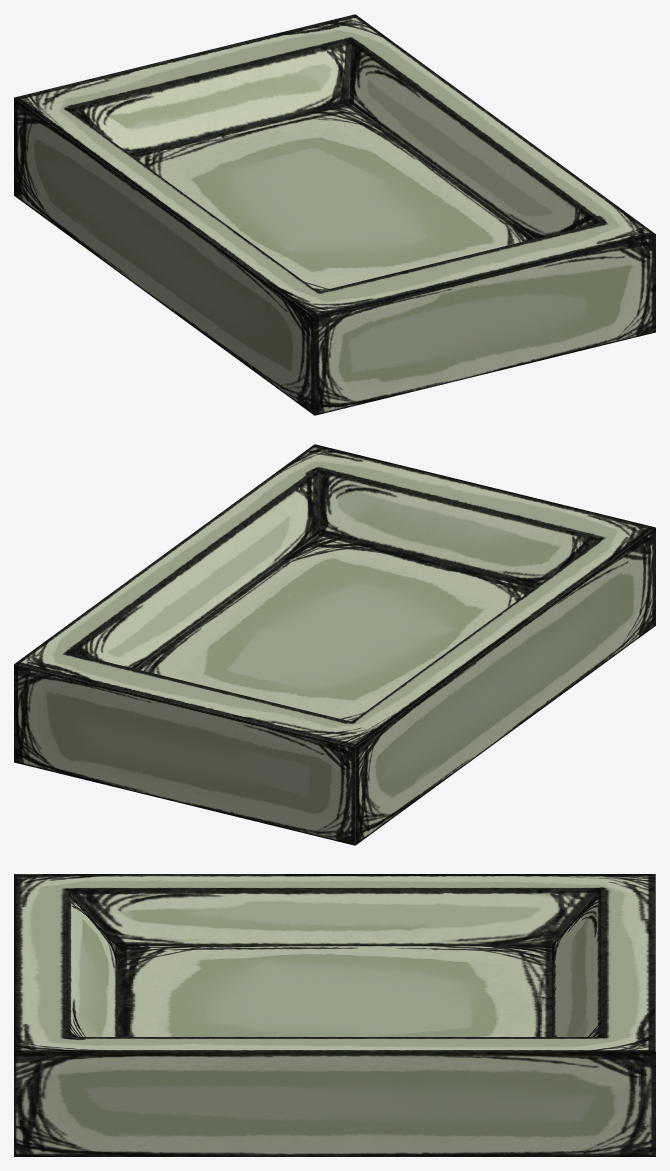
File: soapbox.fbx
The picture shows the model from 3 angles, top to bottom: view 1: azimuth 30°, elevation 25°; view 2: azimuth 150°, elevation 25°; view 3: azimuth 270°, elevation 25°; orthographic projection. The views are drawn at different scales.
Visible parts, largest first — view 1: soapbox; view 2: soapbox; view 3: soapbox.
Part boxes in pixels (<box>): soapbox: <box>14,14,655,415</box>; soapbox: <box>14,444,655,845</box>; soapbox: <box>14,874,655,1156</box>.
Size of the model in its own units: 0.1236 by 0.034 by 0.1886.
1 material, 1 textured.
